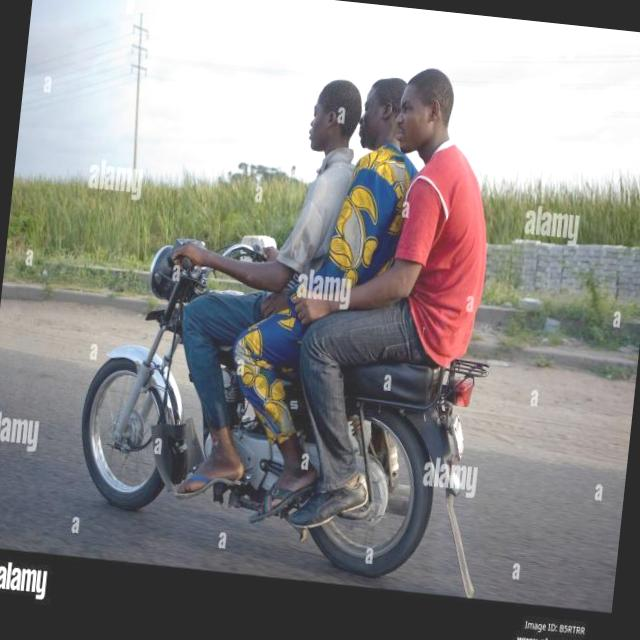motorcycle: (62, 222, 504, 590)
person: (337, 52, 508, 470), (202, 61, 366, 413), (292, 66, 426, 427)
rider_region: (61, 34, 530, 589)
